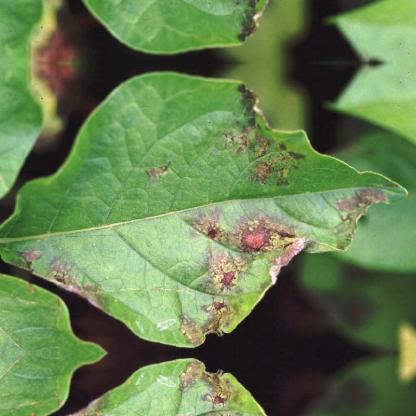Late-Blight: (10, 71, 398, 352), (10, 352, 398, 416)
